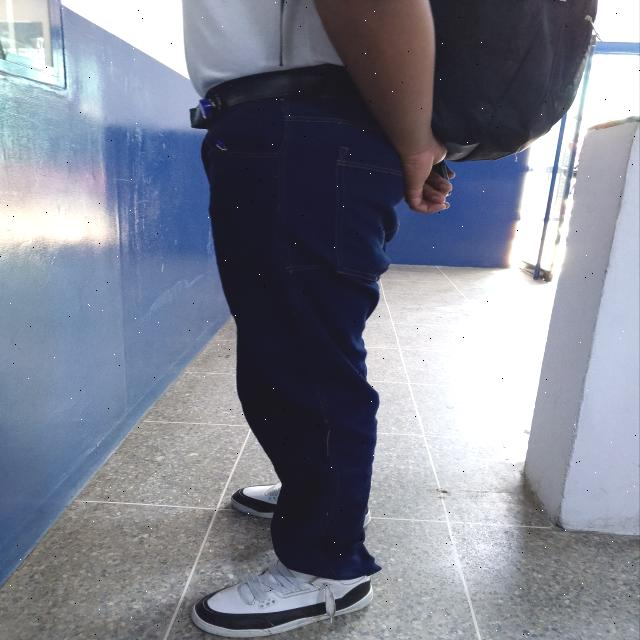pantalon_oscuro: (199, 97, 408, 582)
